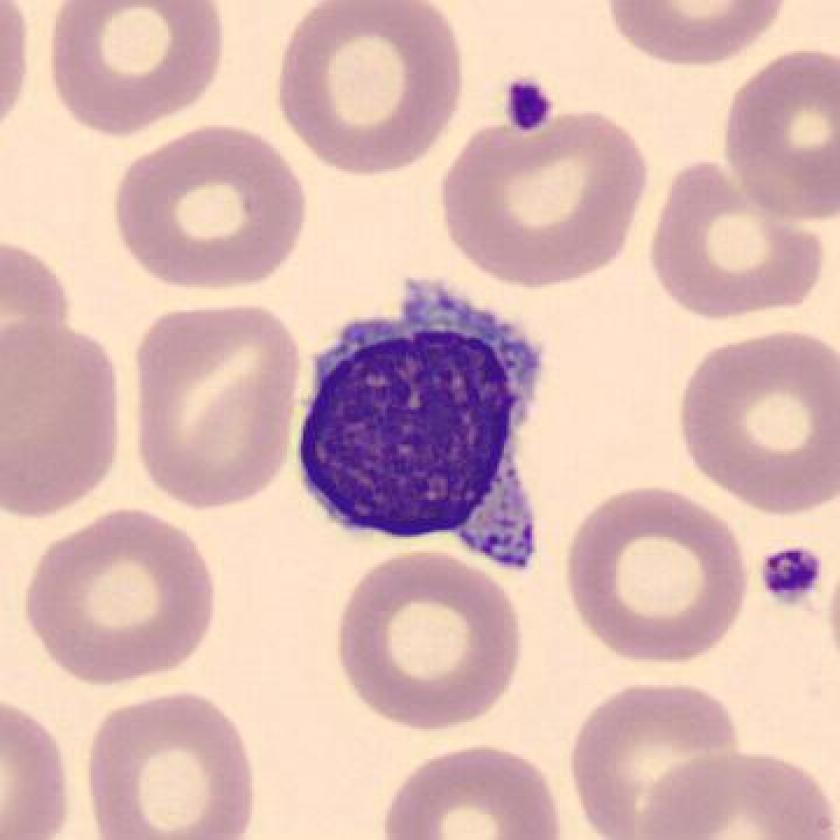lymphocyte: (279, 258, 570, 593)
platelets: (502, 71, 567, 144), (755, 542, 825, 608)
